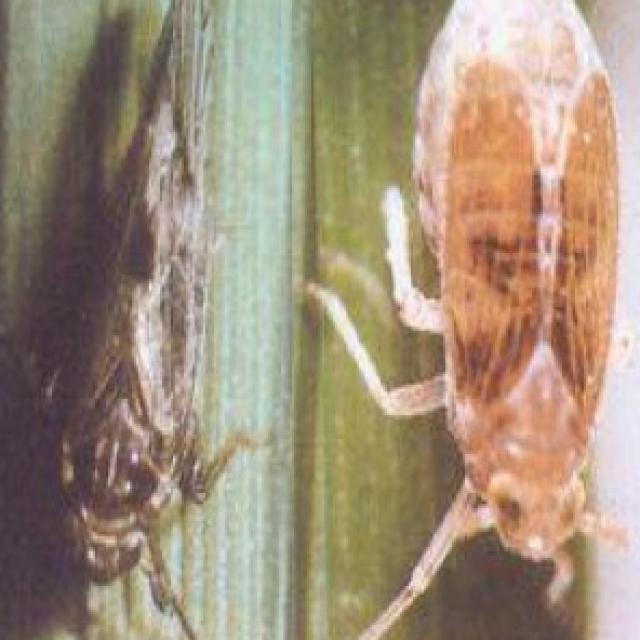brown plant hopper: (307, 0, 627, 629), (32, 0, 255, 640)
